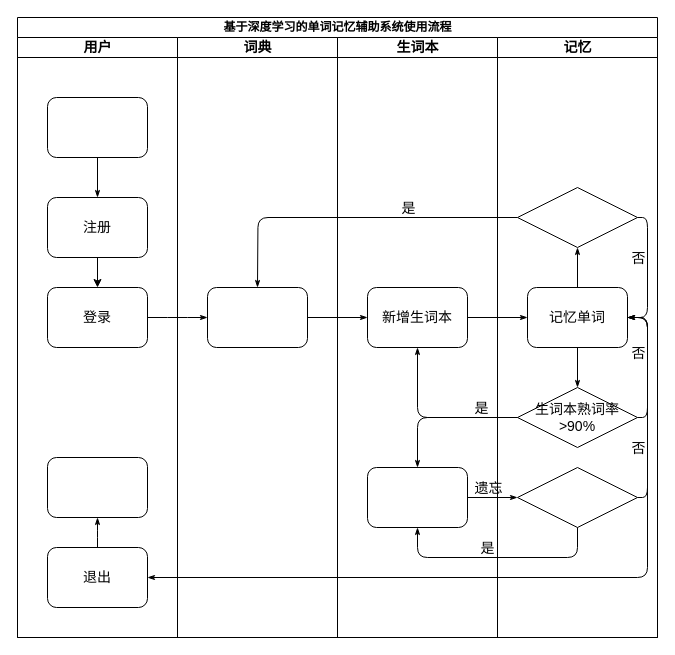
The diagram is 675 pixels wide and 655 high, and some of its shapes have lost their labels. Each missing label, with the centre of its shape:
开始: point (97, 127)
新增词典: point (257, 317)
暂存生词本: point (417, 497)
熟词率>50%: point (577, 497)
结束: point (97, 487)
词典熟词率>90%: point (577, 217)
